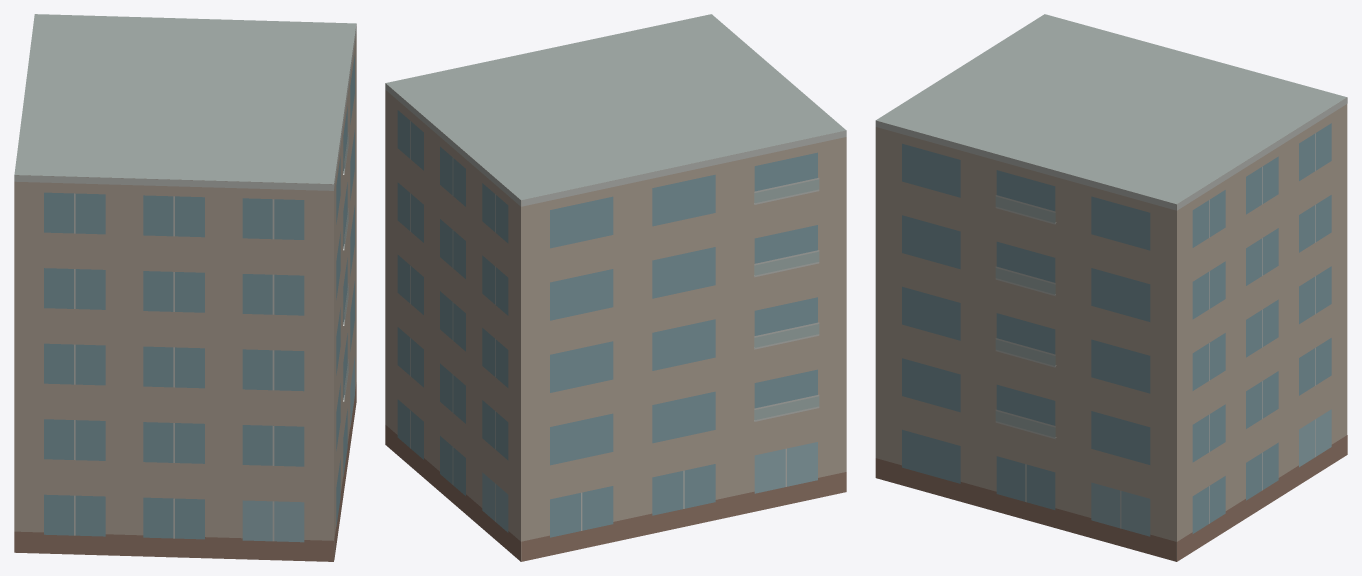
File: survey-upis-32633262.glb
3 renders of one model, left to right at view 1: azimuth 30°, elevation 25°; view 2: azimuth 150°, elevation 25°; view 3: azimuth 270°, elevation 25°, orthographic. The views are drawn at different scales.
Parts seen in each view (by area): view 1: survey-upis-32633262.tmp; view 2: survey-upis-32633262.tmp; view 3: survey-upis-32633262.tmp.
Boxes of the visible parts, box(x1,y1,x2,y2) form: survey-upis-32633262.tmp: box(14, 14, 356, 561); survey-upis-32633262.tmp: box(385, 14, 846, 561); survey-upis-32633262.tmp: box(875, 14, 1347, 561).
Size of the model in its own units: 15.53 by 13.6 by 16.27.
